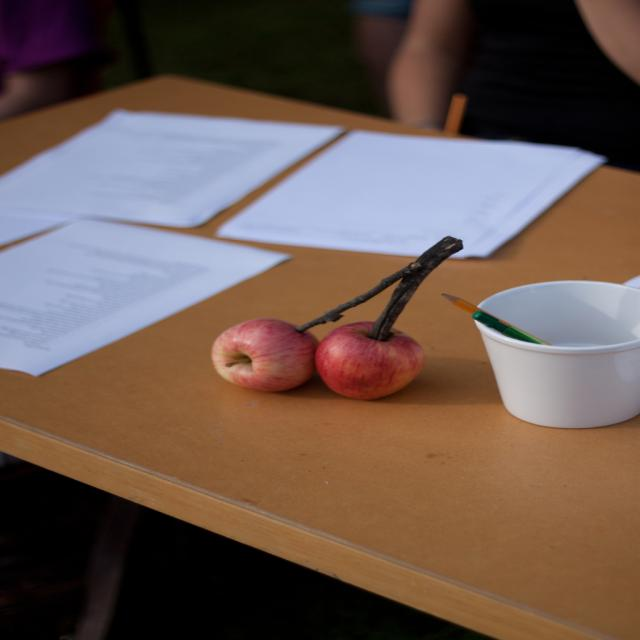Healty Apple: (211, 317, 324, 394), (323, 327, 442, 399)
